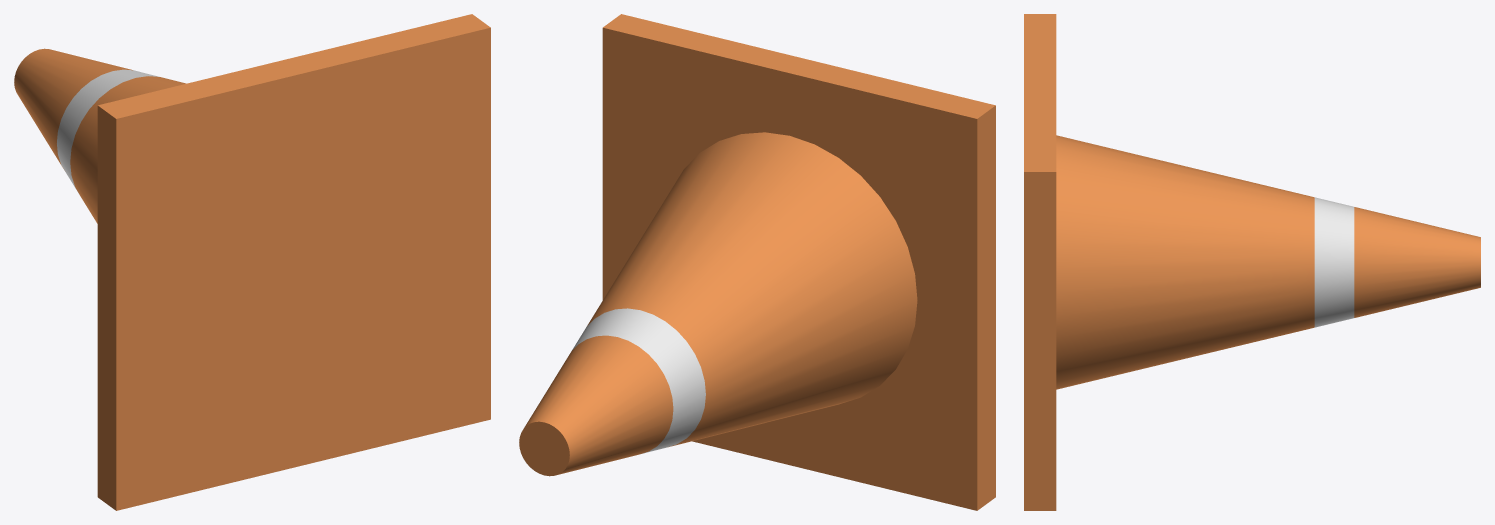
File: SingleCone1.fbx
3 renders of one model, left to right at view 1: azimuth 30°, elevation 25°; view 2: azimuth 150°, elevation 25°; view 3: azimuth 270°, elevation 25°, orthographic. The views are drawn at different scales.
Visible parts, largest first — view 1: Cone.003; view 2: Cone.003; view 3: Cone.003.
Part boxes in pixels (x1,y1,x2,y2): Cone.003: [14, 14, 490, 510]; Cone.003: [519, 14, 995, 510]; Cone.003: [1024, 14, 1480, 510].
Size of the model in its own units: 73.52 by 73.52 by 89.77.
